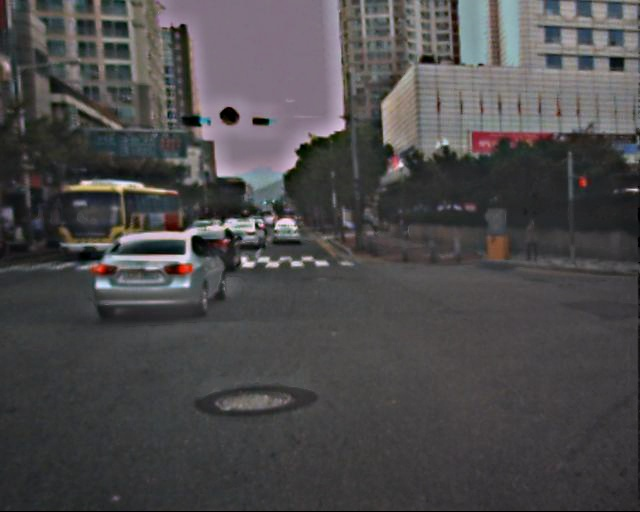person: (525, 217, 544, 264)
